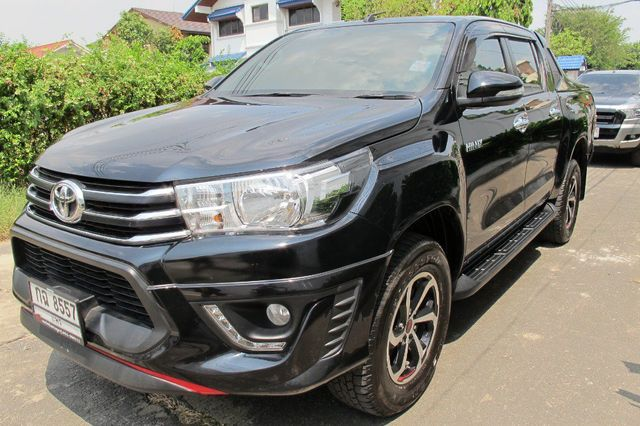pickup: (9, 15, 595, 418)
